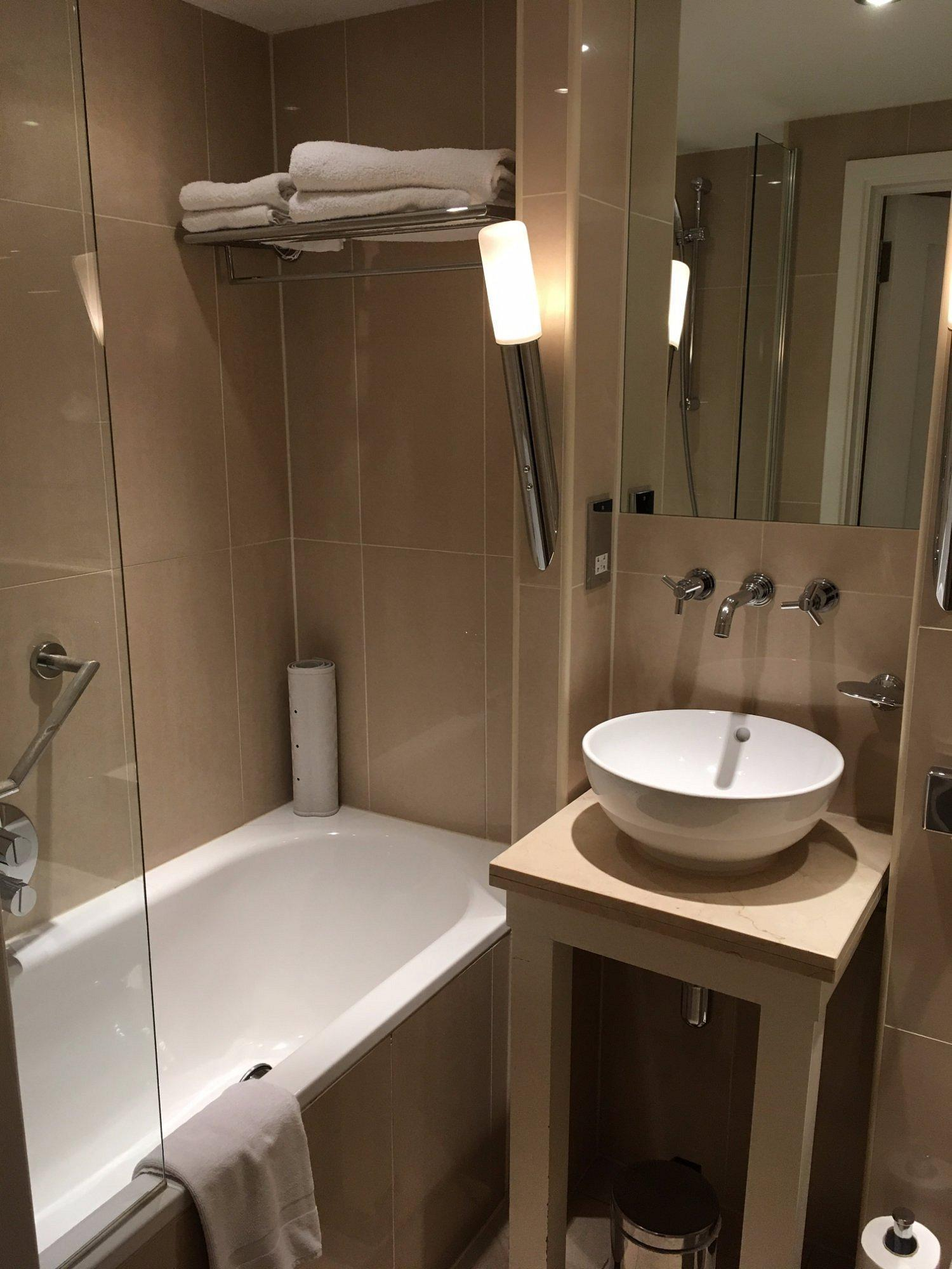clean_sink: (0, 795, 533, 1268), (582, 571, 853, 861)
clean_toilet: (11, 0, 952, 1269)
folded_towel: (159, 125, 533, 241)
